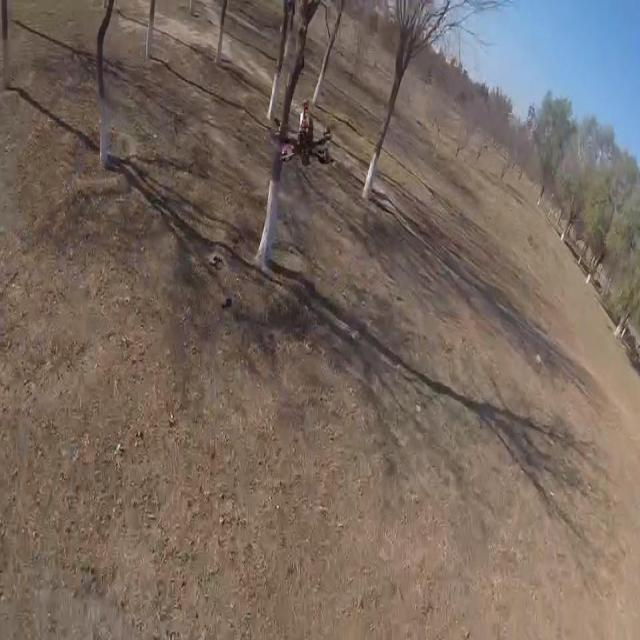drone: (268, 103, 343, 175)
